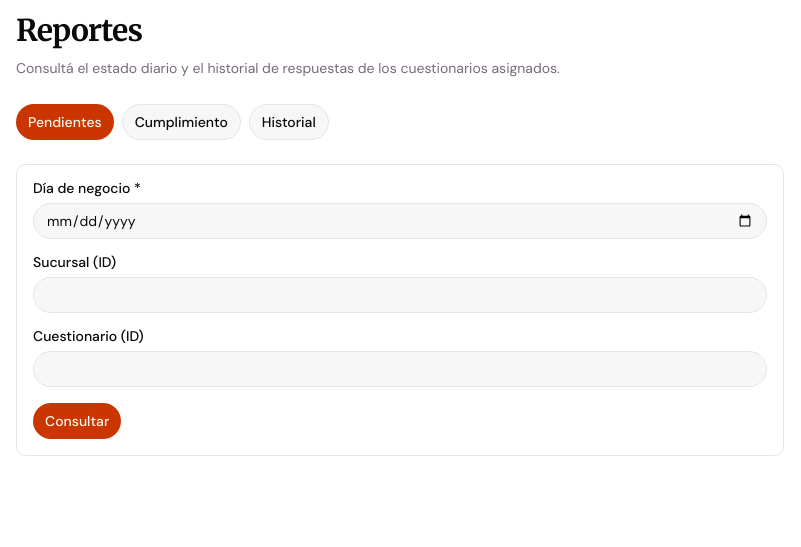
Test: ReportsView — filtros permitidos por tipo de reporte › cumplimiento ofrece from/to y filtros, sin businessDay ni empleado
The width and height of the screenshot is (801, 547).
Step 1. Click the button "Cumplimiento" → [181, 122], box [122, 104, 241, 140]
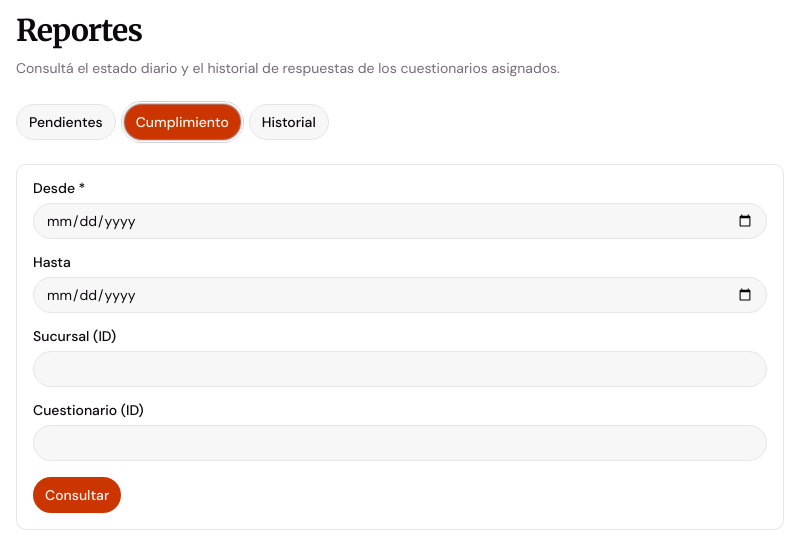
Check: the date field labelled "Desde *" is shown, box [33, 203, 767, 239]
Check: the date field labelled "Hasta" is shown, box [33, 277, 767, 313]
Check: the label labelled "Día de negocio" is gone
